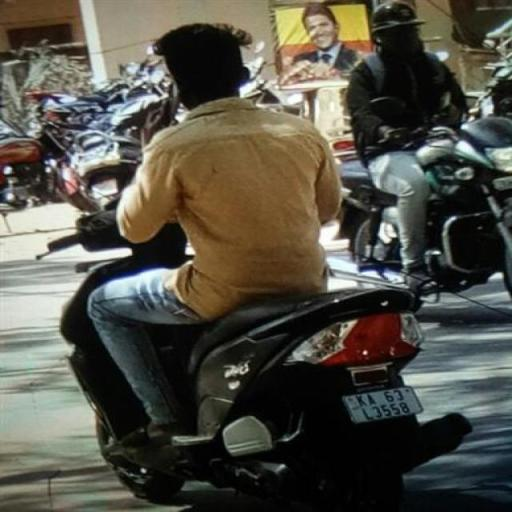numberplate: (352, 378, 426, 428)
using mobile: (150, 78, 192, 136)
